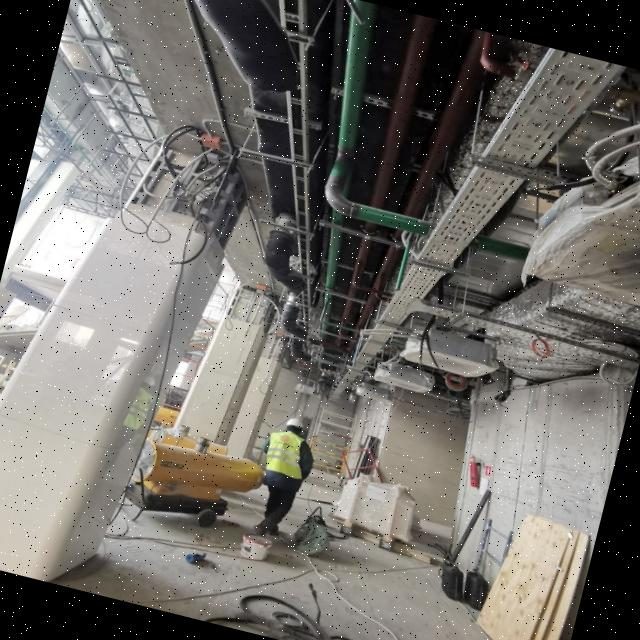Helmet: (286, 418, 306, 435)
Jacket: (264, 427, 310, 481)
